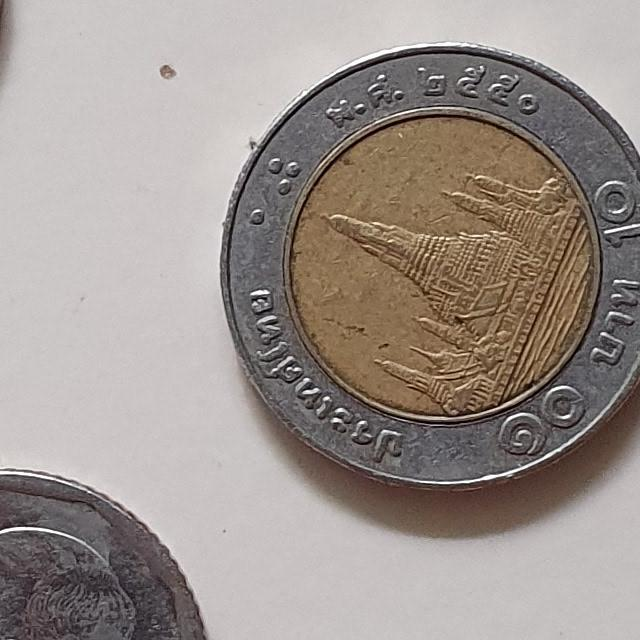10 Bath: (210, 39, 640, 503)
5 Bath: (1, 464, 227, 640)
